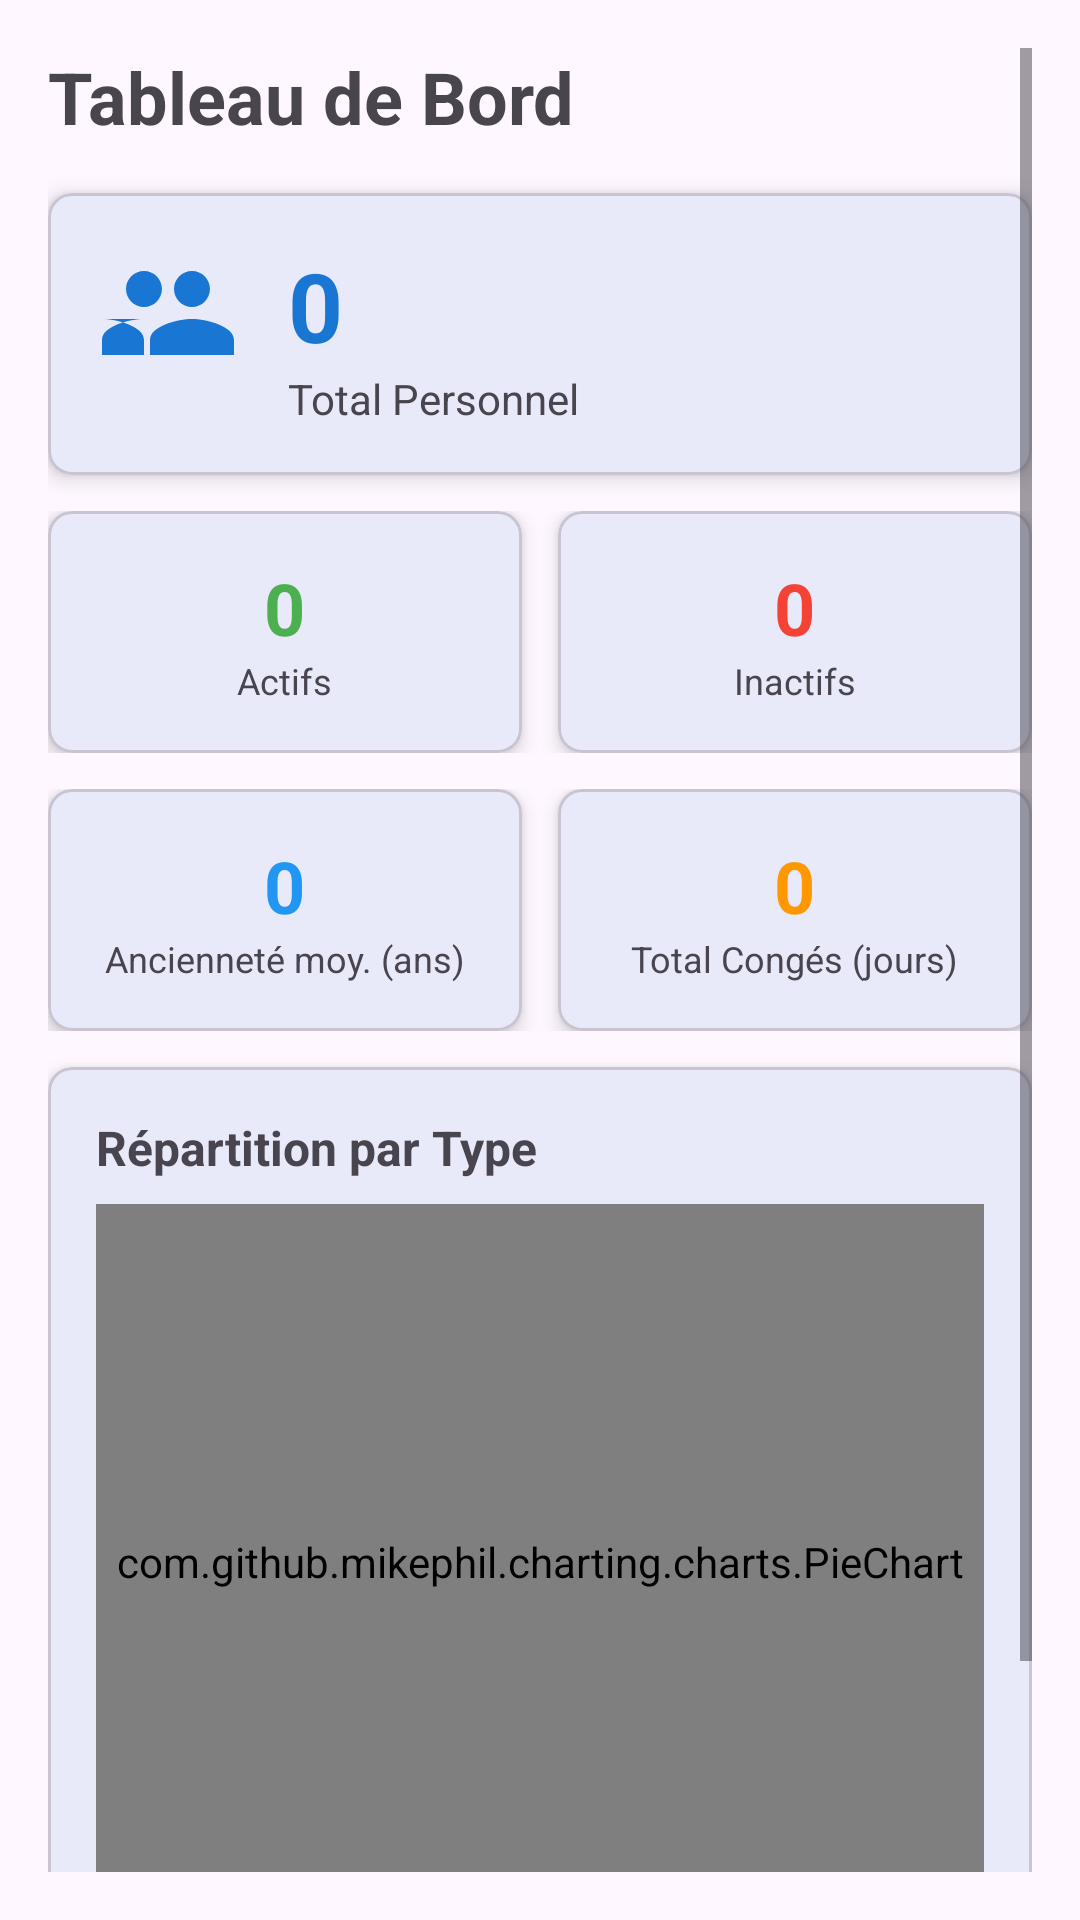

Icon bounding boxes for this 1080×1920 phone screenshot, format (x1, y1, x2, y2):
people: (102, 271, 234, 355)
